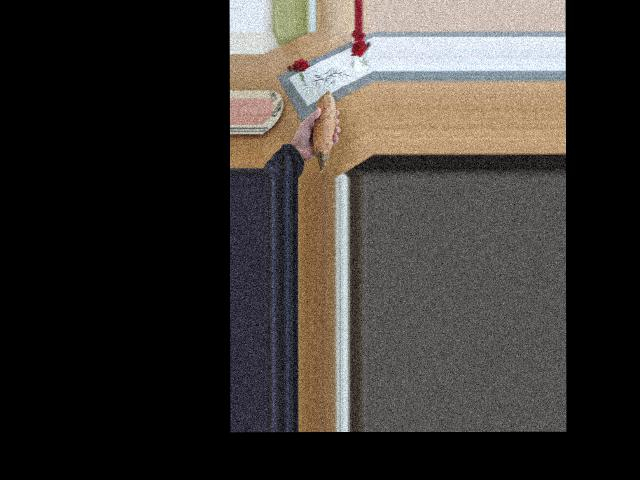sweet_potato: (305, 89, 339, 165)
